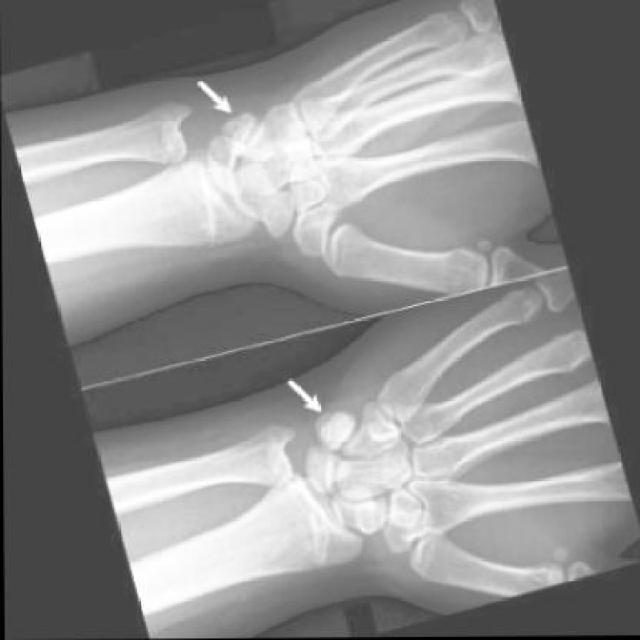Fracture: (314, 406, 358, 453), (222, 108, 261, 142)
